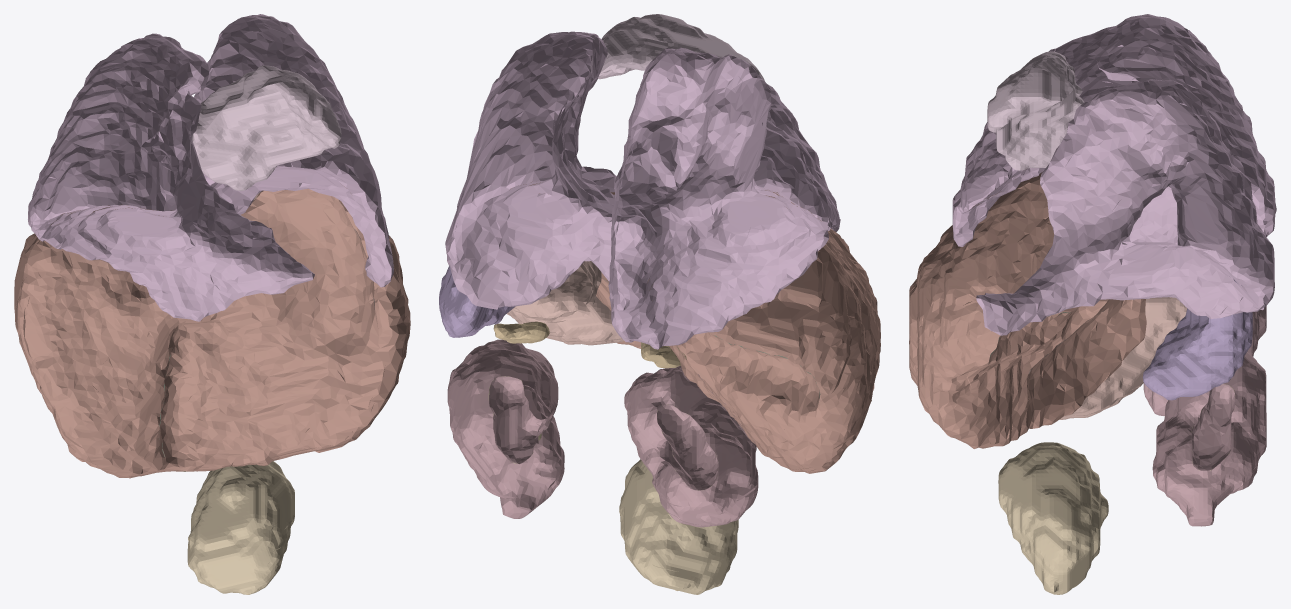
Rendered from fetal-body-kcl.glb.
3 views of the same model, side by side, from view 1: azimuth 30°, elevation 25°; view 2: azimuth 150°, elevation 25°; view 3: azimuth 270°, elevation 25° (orthographic). The views are drawn at different scales.
Visible parts, largest first — view 1: liver, lungs, thymus, bladder; view 2: lungs, kidneys, liver, bladder, stomach, thymus, spleen, adrenals; view 3: lungs, liver, kidneys, bladder, thymus, spleen, stomach.
Part boxes in pixels (left/top/right/bottom): liver: left=14, top=186, right=410, bottom=478; lungs: left=28, top=14, right=393, bottom=321; thymus: left=189, top=65, right=341, bottom=191; bladder: left=187, top=461, right=294, bottom=594; lungs: left=445, top=31, right=840, bottom=349; kidneys: left=447, top=339, right=758, bottom=527; liver: left=510, top=181, right=880, bottom=473; bladder: left=619, top=459, right=738, bottom=594; stomach: left=507, top=261, right=623, bottom=345; thymus: left=590, top=14, right=764, bottom=80; spleen: left=439, top=266, right=515, bottom=337; adrenals: left=493, top=321, right=686, bottom=368; lungs: left=952, top=14, right=1276, bottom=335; liver: left=909, top=172, right=1146, bottom=448; kidneys: left=1143, top=306, right=1266, bottom=526; bladder: left=998, top=442, right=1108, bottom=594; thymus: left=987, top=51, right=1084, bottom=170; spleen: left=1142, top=276, right=1252, bottom=400; stomach: left=1028, top=297, right=1187, bottom=419.
Bounding box in the file's own units: 1.08 × 1.66 × 1.
